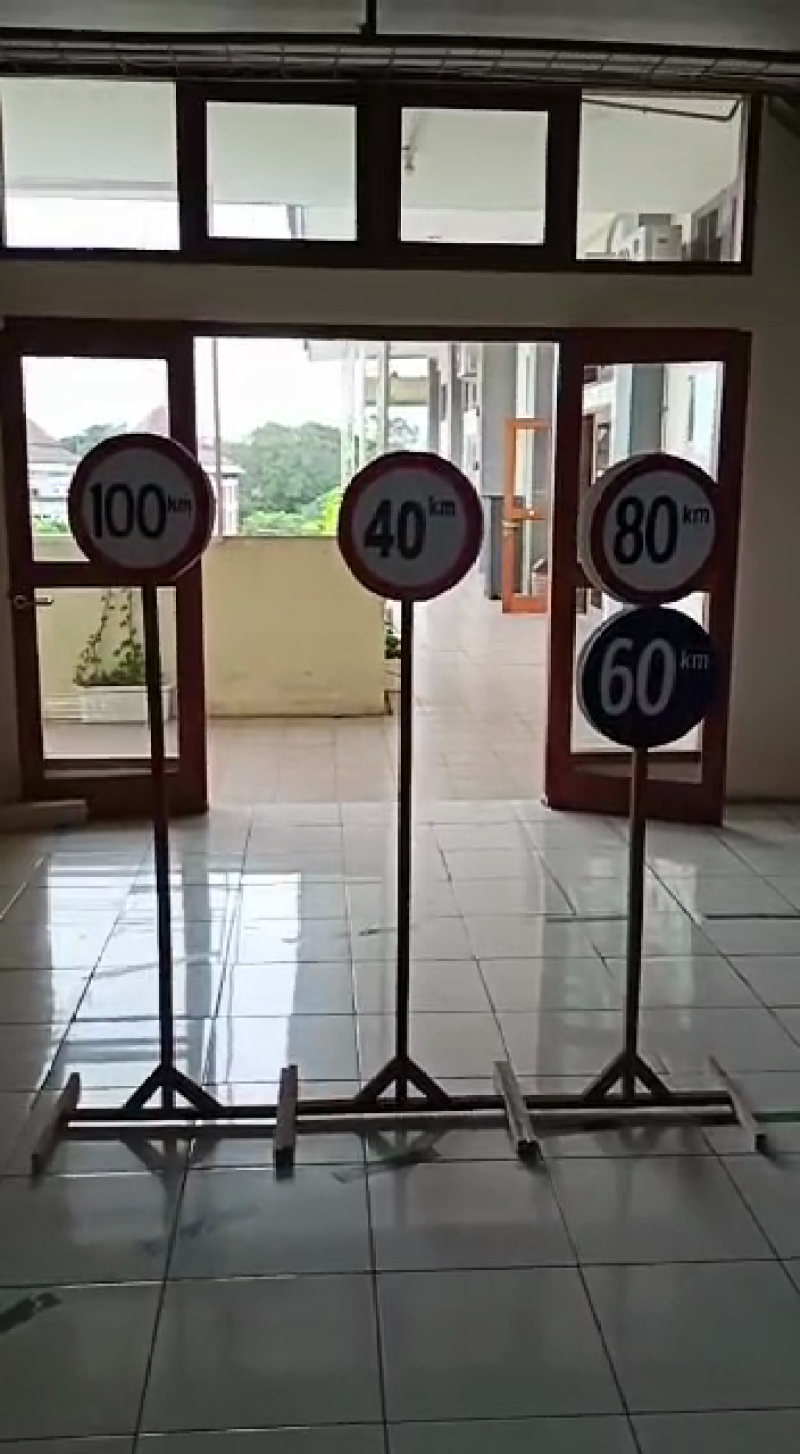batas maksimal 100kmperjam: (55, 422, 229, 594)
batas maksimal 40kmperjam: (333, 448, 481, 607)
batas maksimal 80kmperjam minimal 60kmperjam: (587, 451, 726, 748)
